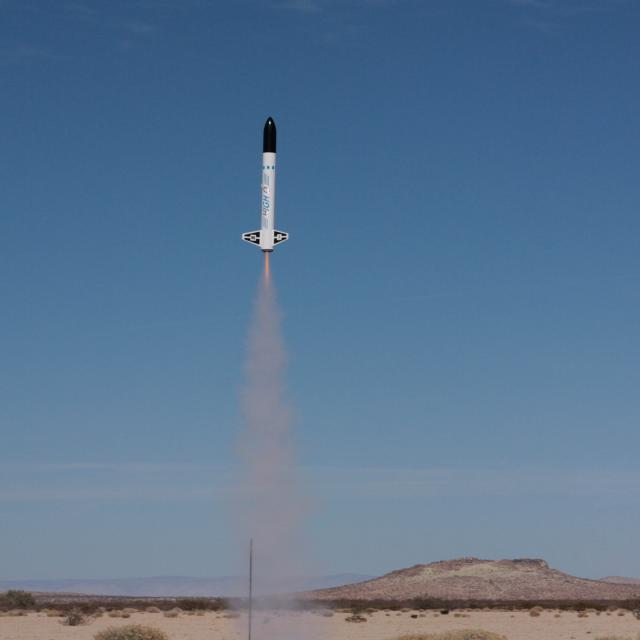Rocket: (240, 116, 289, 253)
